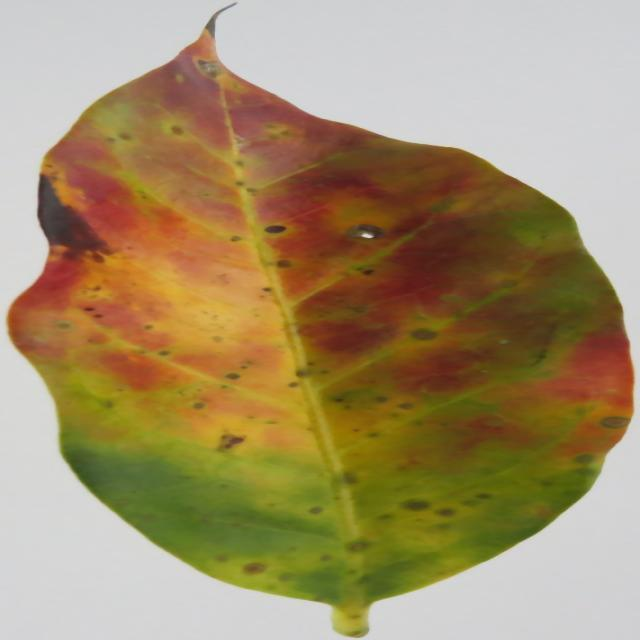DeficienciaNutricional-Fosforo: (9, 22, 632, 636)
